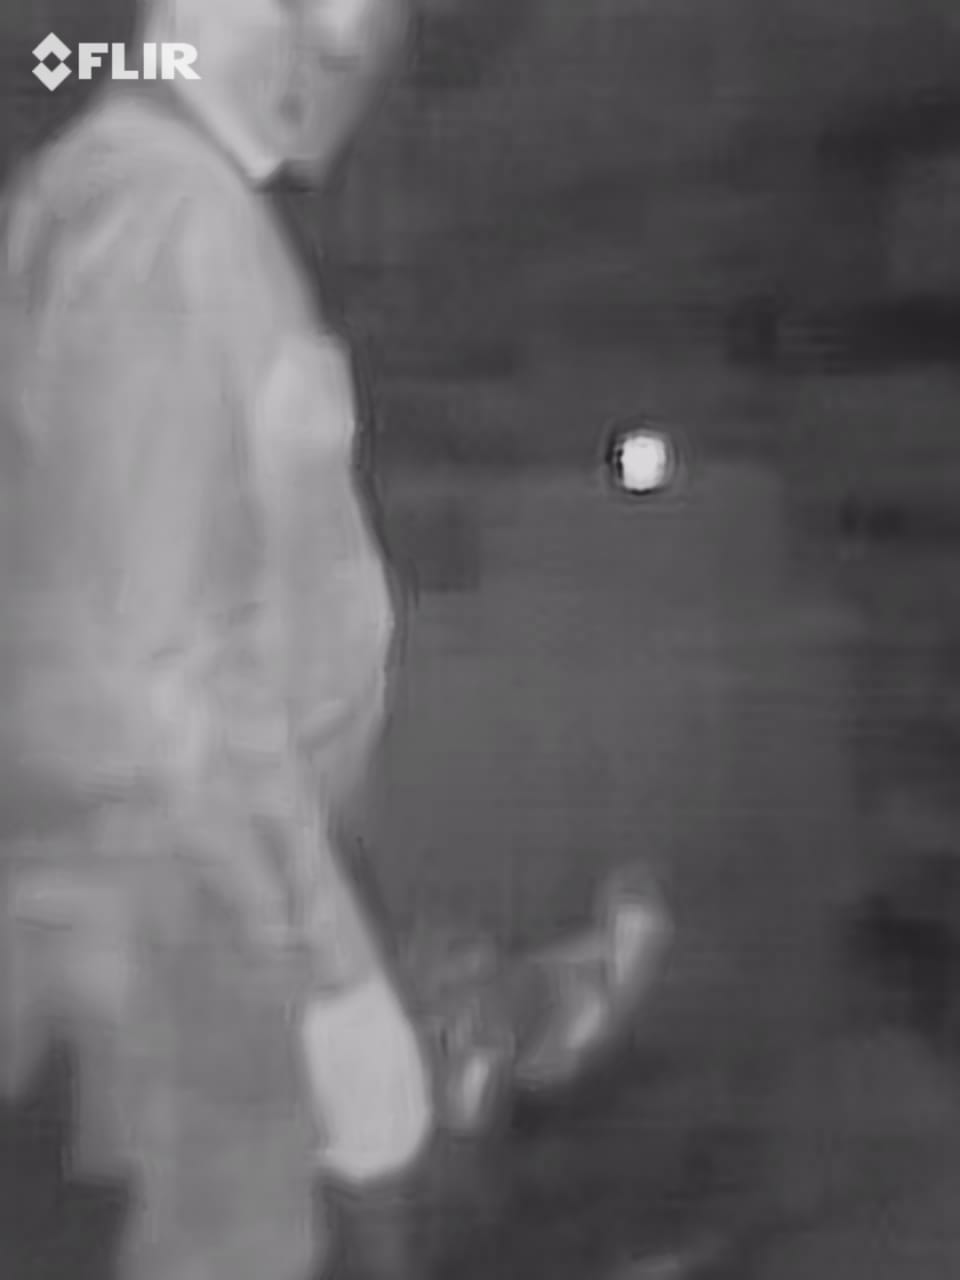head: (91, 1, 449, 223)
